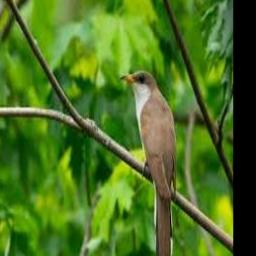Cuckoo: (120, 70, 177, 256)
